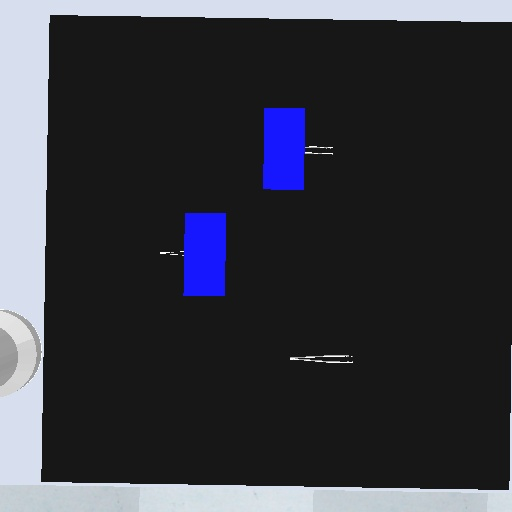pinza: (287, 351, 356, 369), (305, 142, 337, 156), (157, 247, 184, 261)
